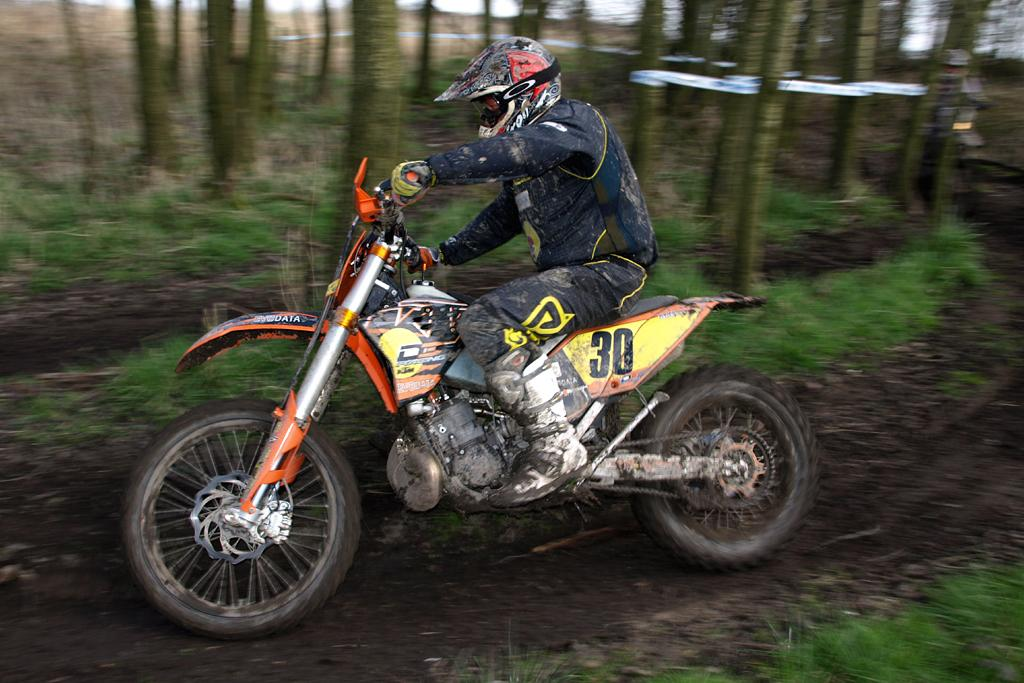helmet: (433, 36, 562, 153)
